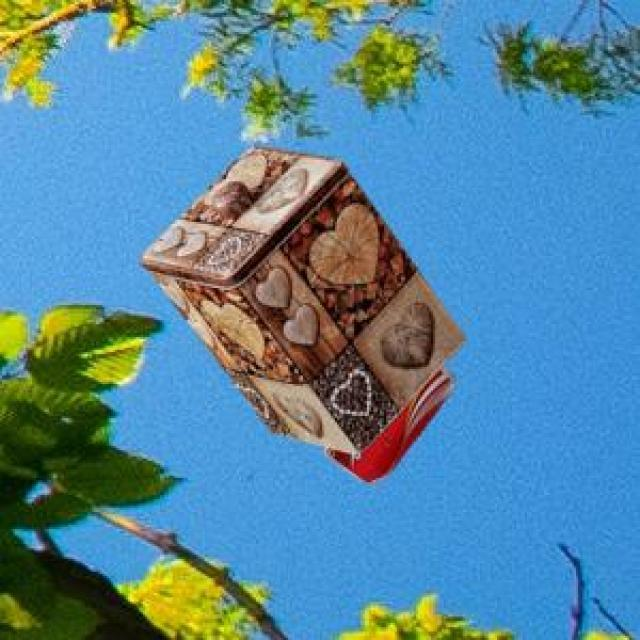Can: (138, 144, 462, 449), (321, 364, 451, 481)
